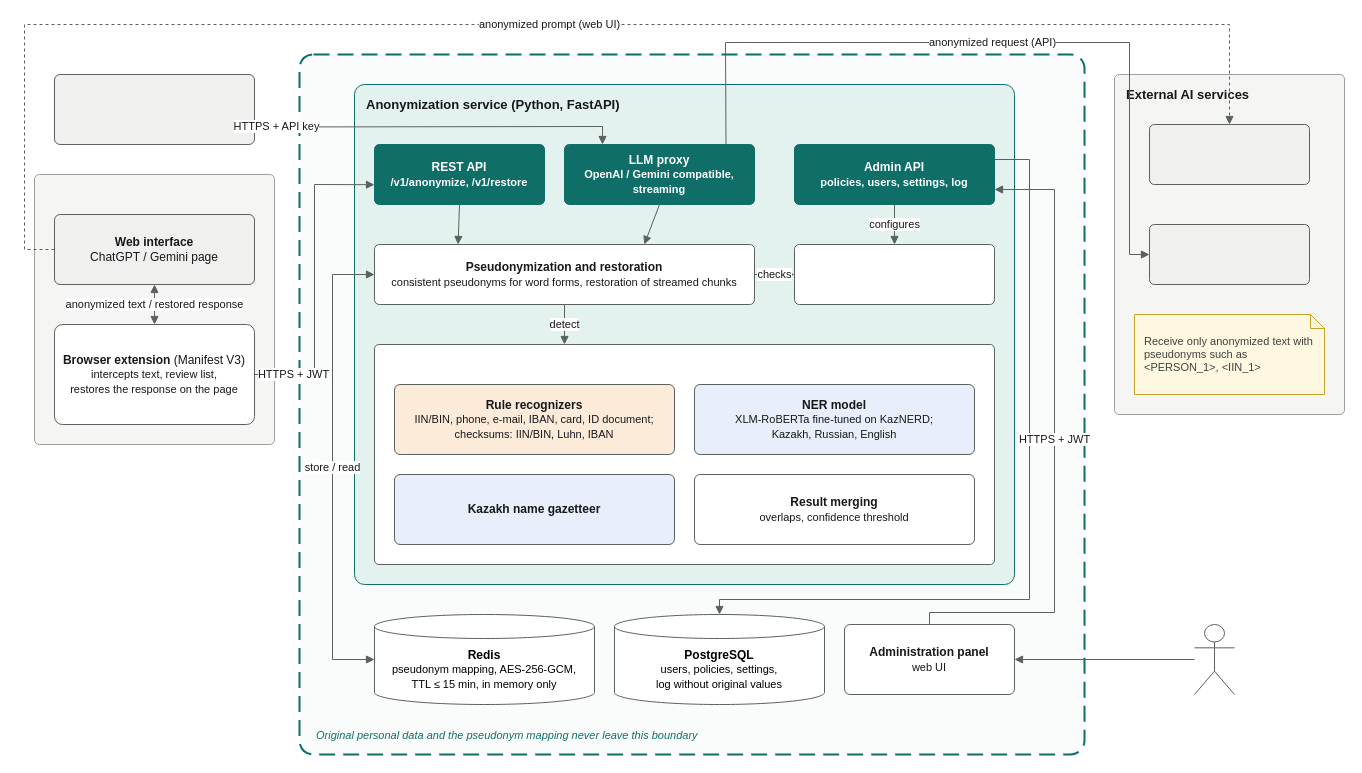
This 1362x773 diagram has some shape labels left out. The shapes that lost their labels are listed below. From the top down, each one's box as (x1, y1, x2, y2) in pixels, then its label:
(54, 74, 254, 144): Internal system CRM, chatbot (service account)
(1148, 124, 1310, 184): ChatGPT OpenAI
(794, 244, 994, 304): Policy engine replace / warn / block
(1148, 224, 1310, 284): Gemini Google
(34, 174, 274, 444): User workstation
(298, 53, 1085, 755): Organization infrastructure (on-premise, Docker Compose)
(374, 344, 994, 564): Detection engine (Presidio framework)
(1194, 624, 1234, 694): Administrator / Auditor
